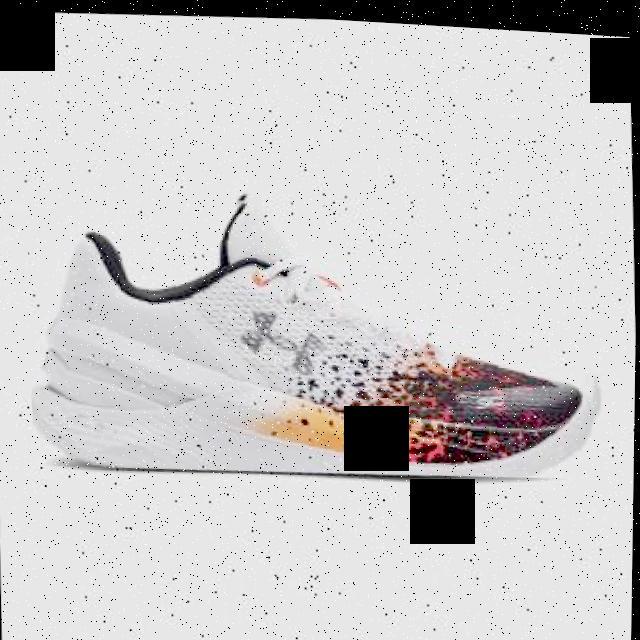shoe: (25, 166, 606, 491)
